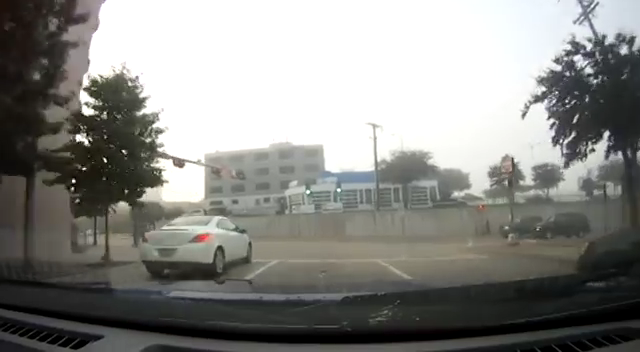car: (139, 215, 253, 276), (531, 211, 591, 239), (499, 215, 544, 238)
